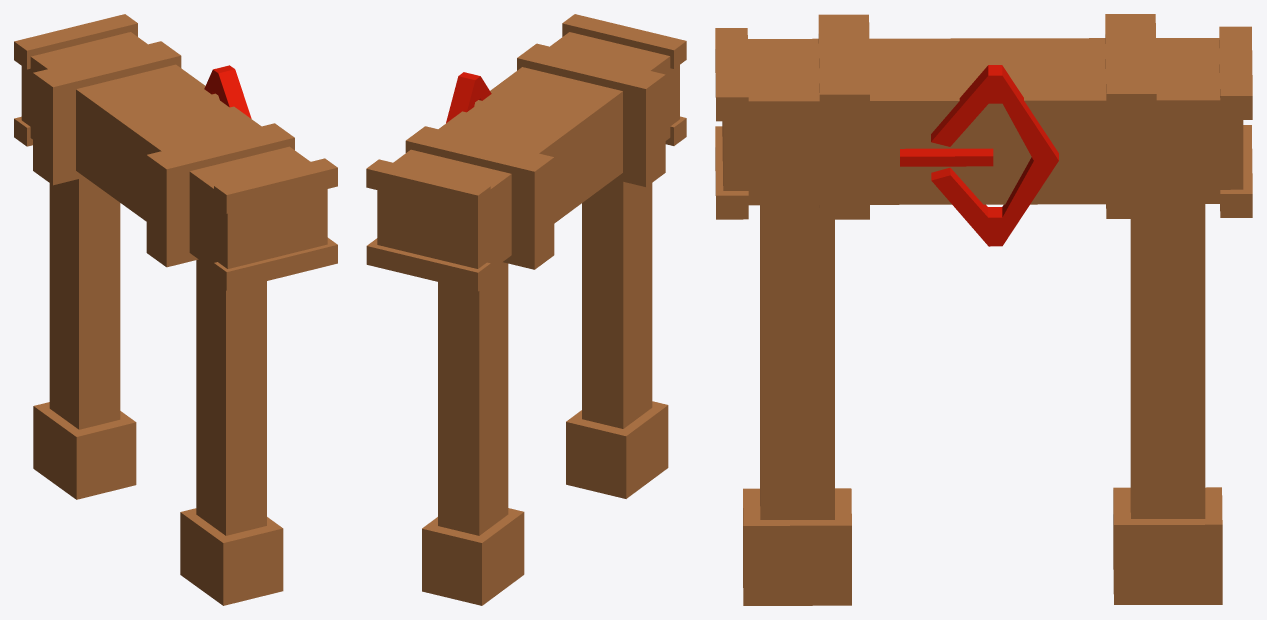
The model's file is finishdoorfuture.fbx.
3 views of the same model, side by side, from view 1: azimuth 30°, elevation 25°; view 2: azimuth 150°, elevation 25°; view 3: azimuth 270°, elevation 25° (orthographic). The views are drawn at different scales.
Parts seen in each view (by area): view 1: exitsign01; view 2: exitsign01; view 3: exitsign01.
Boxes of the visible parts, x1=… form: exitsign01: x1=14, y1=14, x2=337, y2=605; exitsign01: x1=366, y1=14, x2=686, y2=605; exitsign01: x1=715, y1=14, x2=1252, y2=605.
Bounding box in the file's own units: 228 × 702 × 610.
